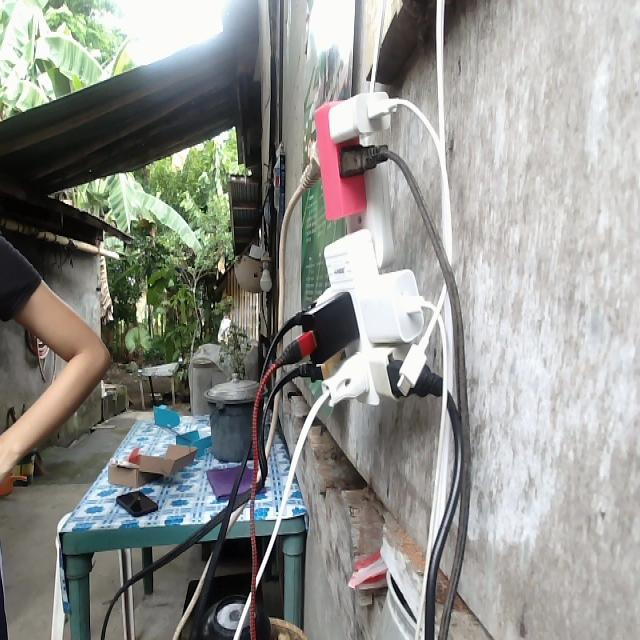-: (272, 87, 433, 404)
